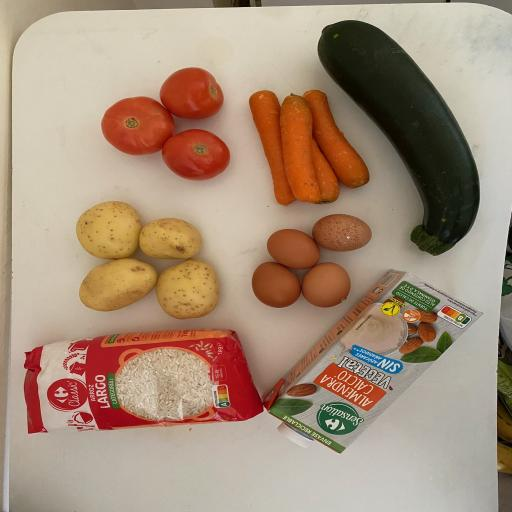almond_milk: (260, 265, 484, 460)
carrot: (304, 85, 375, 191), (244, 87, 303, 209), (271, 89, 322, 205), (299, 124, 342, 208)
courgette: (312, 14, 488, 259)
egg: (248, 257, 303, 313), (300, 260, 354, 311), (307, 214, 375, 254), (264, 227, 324, 272)
potato: (74, 255, 160, 313), (71, 196, 144, 262), (155, 255, 224, 320), (134, 214, 206, 262)
rice: (18, 325, 265, 437)
tomato: (75, 74, 227, 168), (139, 110, 241, 192), (142, 53, 230, 131)
